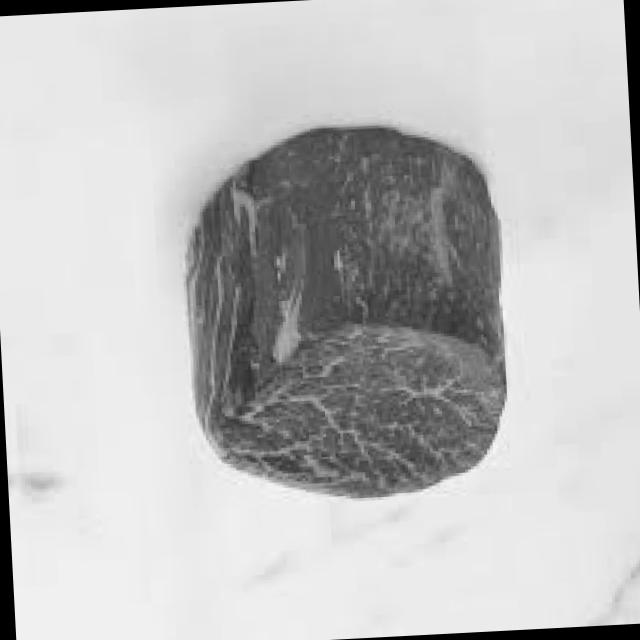than bit tet: (184, 125, 516, 512)
